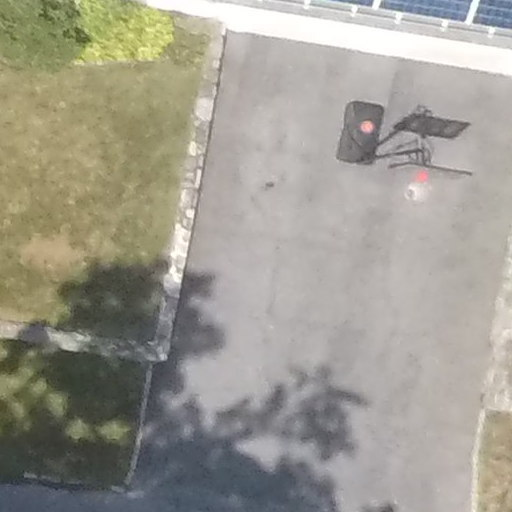basketball: (335, 88, 476, 193)
